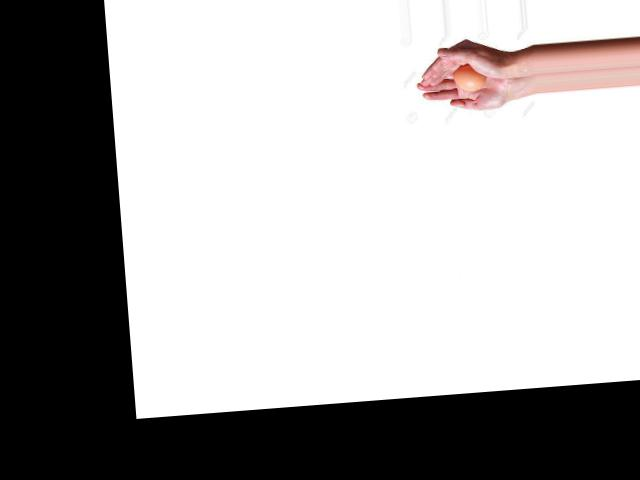egg: (452, 63, 484, 90)
